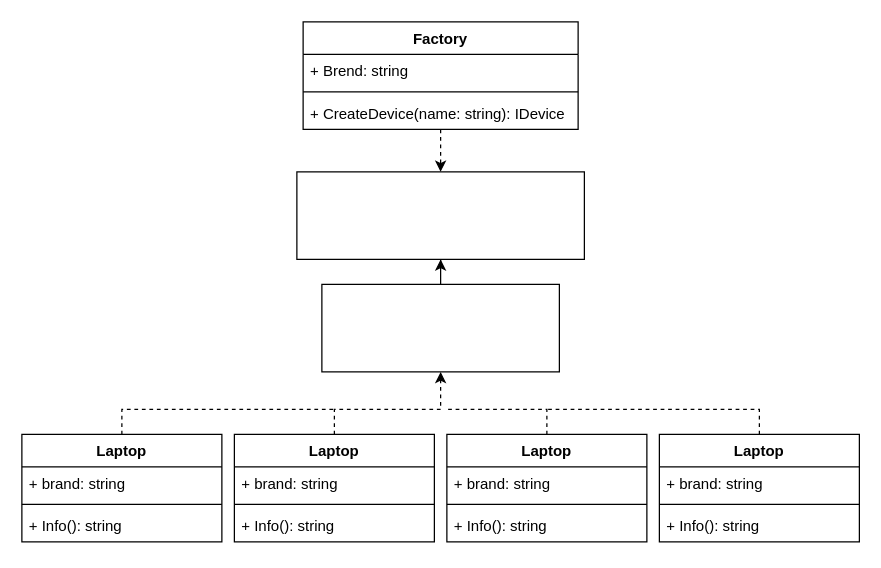
This 881x568 diagram has some shape labels left out. Here are the shapes that lost their labels. From the top down, the centre of each, then its label:
At [440,215]: "<<Interface>> ITechFactory + CreateDevice(name: string): IDevice".
At [440,327]: "<<Interface>> IDevice + Info(): string".
